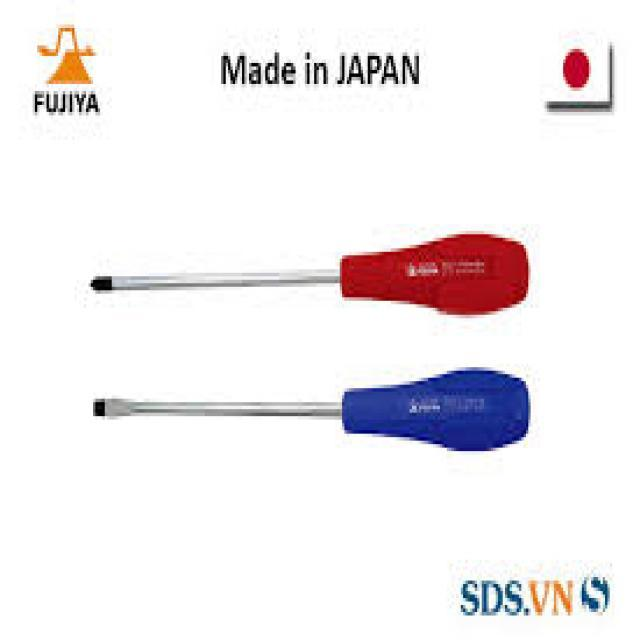screwdriver: (87, 354, 532, 456), (76, 228, 534, 318)
